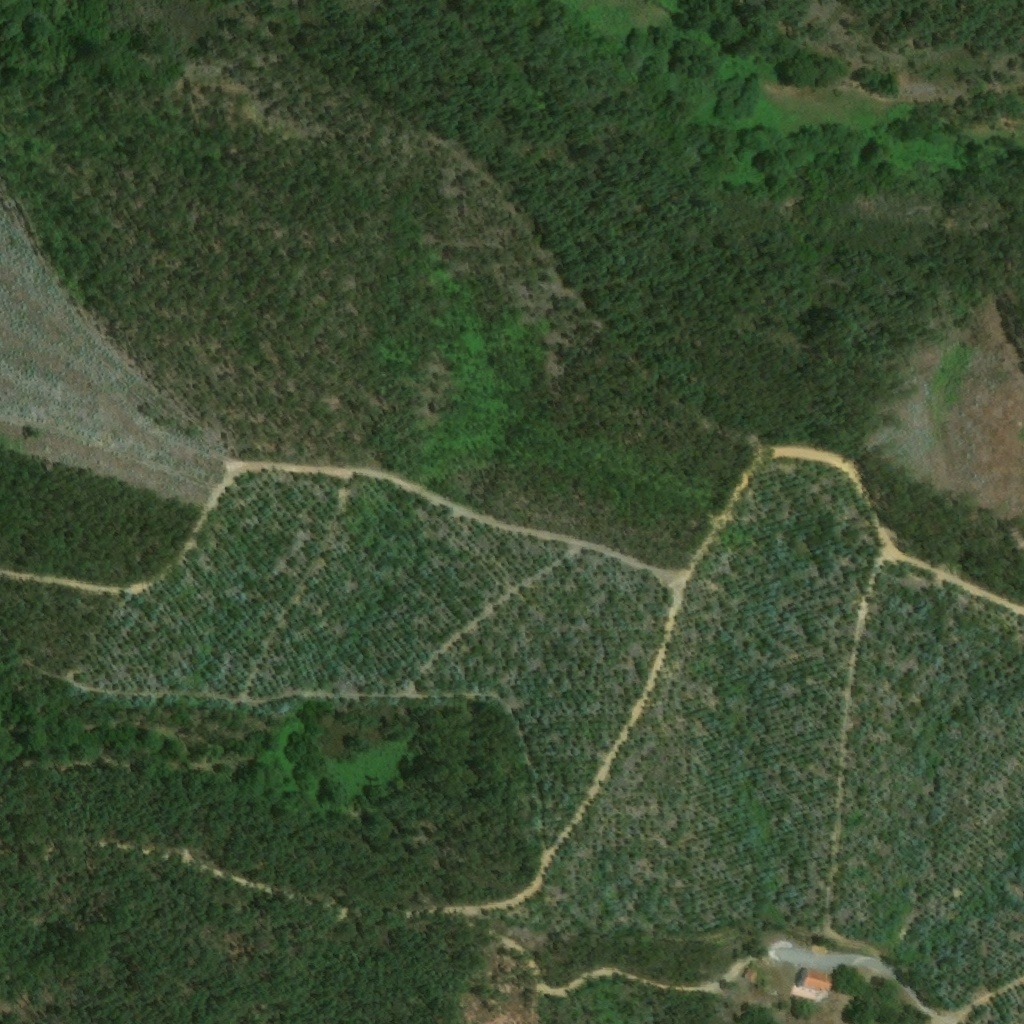0 no-damage: (797, 969, 834, 995), (745, 968, 759, 981)
